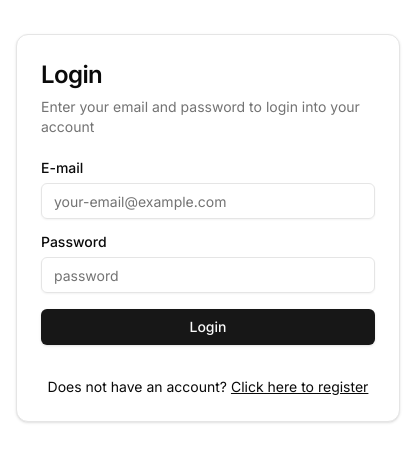
Test case: LoginPage › should display an error message on failed login
Step 1. Type "wrong@test.com" into the field labelled "E-mail" → (208, 201), box [41,183,375,219]
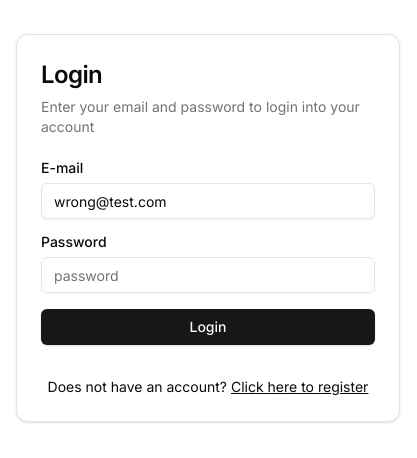
Step 2. Type "wrongpassword" into the password field labelled "Password" → (208, 275), box [41,257,375,293]
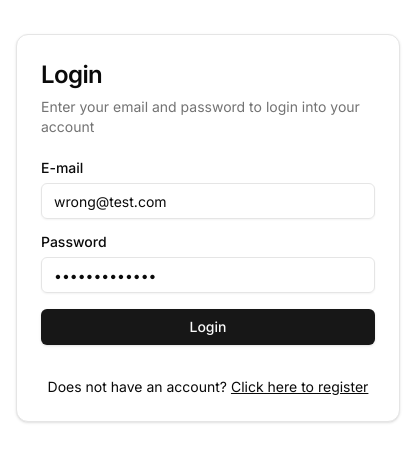
Step 3. Click the button "Login" → (208, 327), box [41,309,375,345]
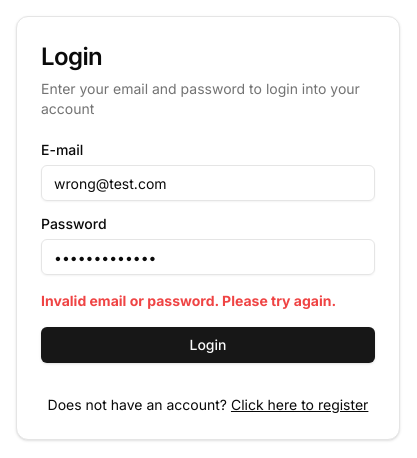
Check: the text "Invalid email or password. Please try again." is shown, box [41,291,375,311]
